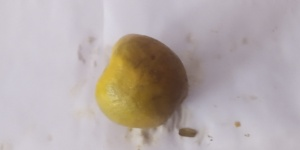BAD: (95, 33, 187, 128)
